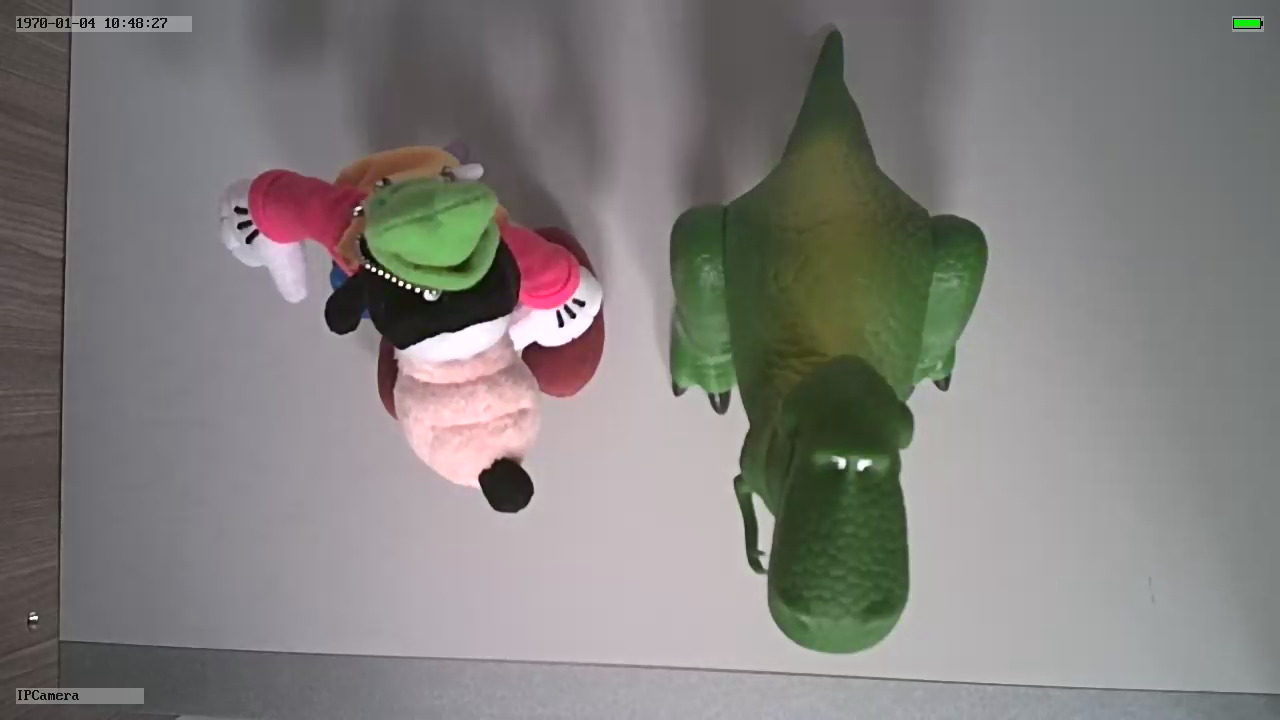goofy: (211, 139, 613, 527)
